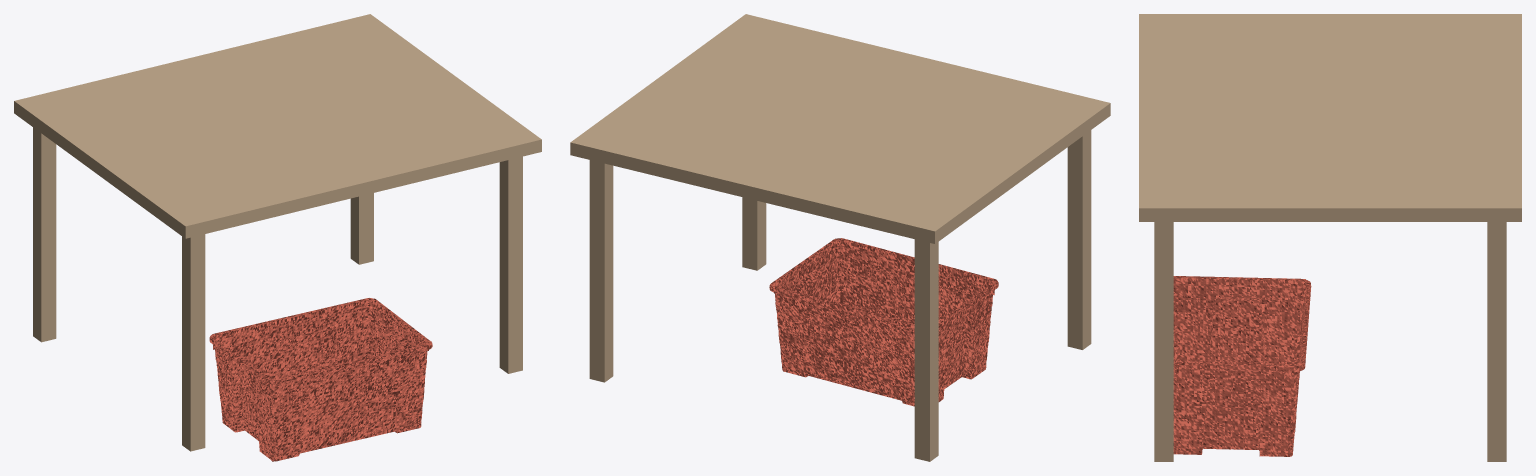
The model's file is hum_06_box_push_props.glb.
3 renders of one model, left to right at view 1: azimuth 30°, elevation 25°; view 2: azimuth 150°, elevation 25°; view 3: azimuth 270°, elevation 25°, orthographic. The views are drawn at different scales.
Visible parts, largest first — view 1: s_box_00, o00, s_box_02, s_box_01, s_box_04, s_box_03; view 2: s_box_00, o00, s_box_04, s_box_03, s_box_02, s_box_01; view 3: s_box_00, o00, s_box_01, s_box_03.
Part boxes in pixels (x1,y1,x2,y2): s_box_00: (14,14,541,238); o00: (209,298,432,461); s_box_02: (182,234,205,451); s_box_01: (499,156,522,373); s_box_04: (33,127,56,342); s_box_03: (350,193,373,264); s_box_00: (570,14,1110,243); o00: (769,238,998,406); s_box_04: (914,239,938,461); s_box_03: (589,160,613,382); s_box_02: (1067,130,1091,349); s_box_01: (742,197,766,270); s_box_00: (1139,14,1521,221); o00: (1173,276,1311,456); s_box_01: (1154,222,1173,461); s_box_03: (1487,222,1506,461).
Size of the model in its own units: 1.2 by 0.882 by 1.
